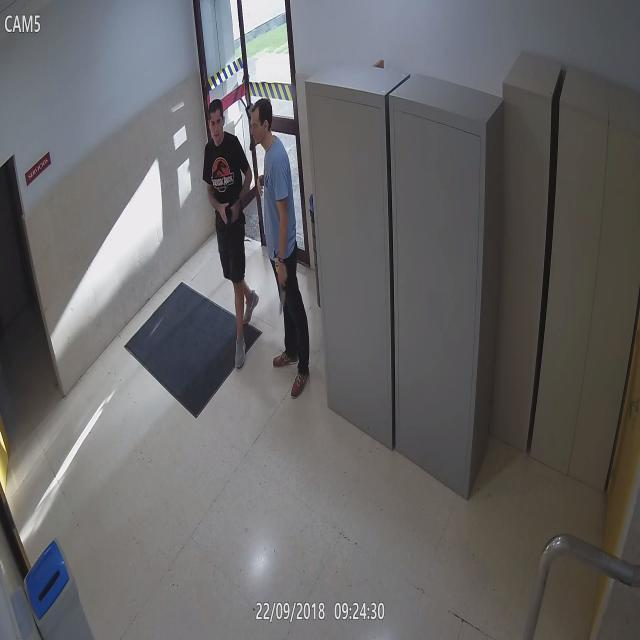gun: (222, 195, 242, 243)
